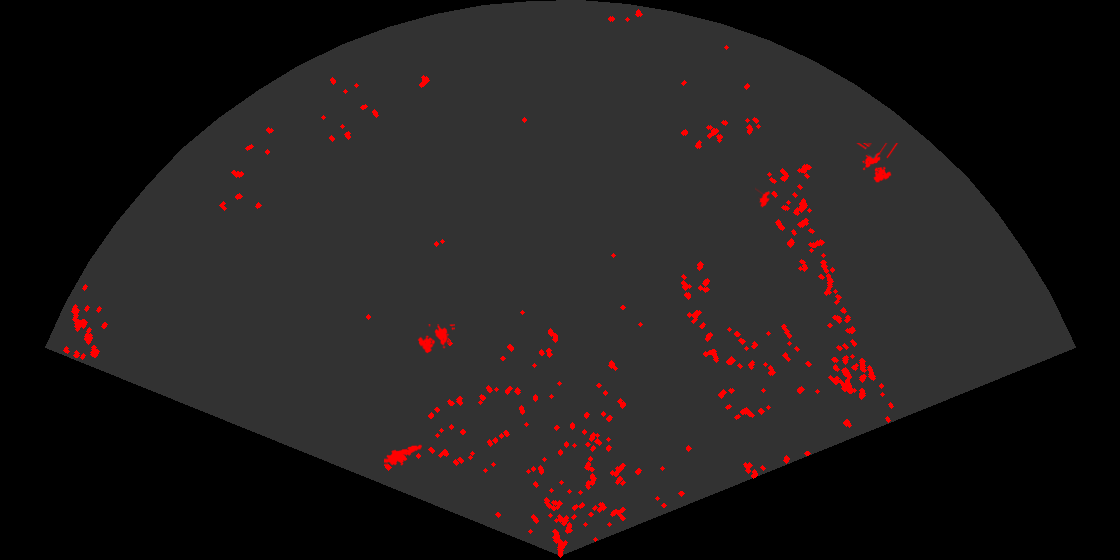AUV: (755, 187, 772, 209)
cage: (855, 143, 900, 184), (416, 324, 455, 355)
frogman: (384, 443, 422, 467)
